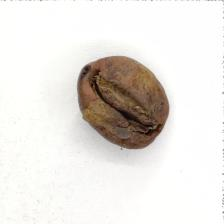NG: (80, 64, 150, 143)
